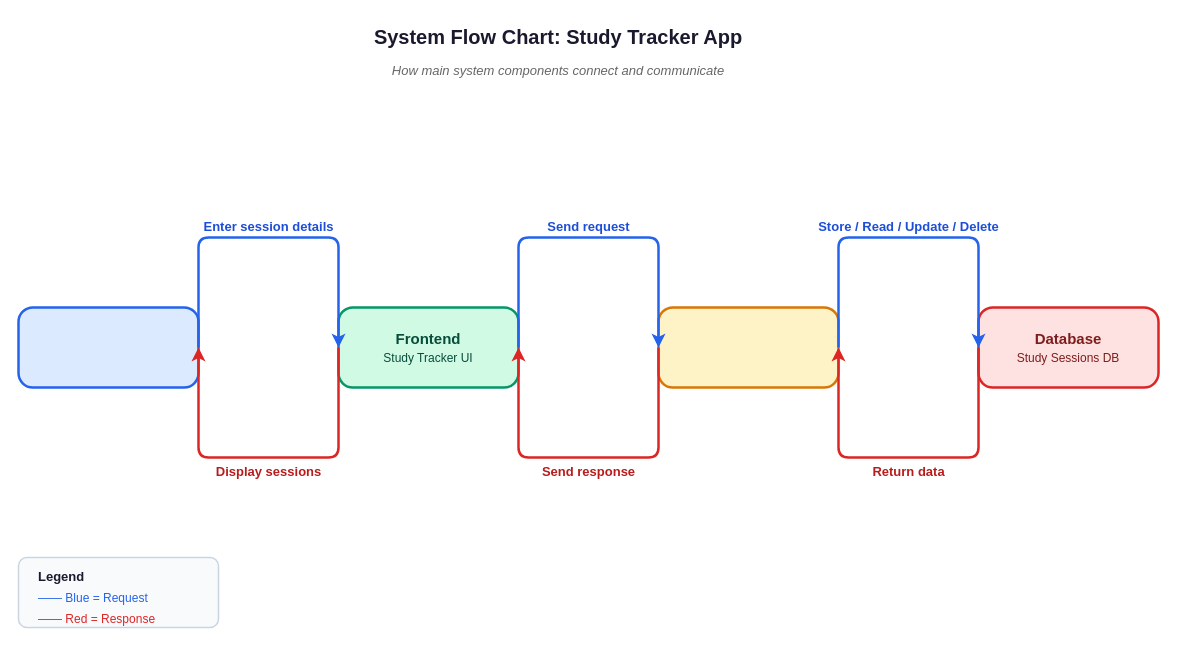
This 1177x645 diagram has some shape labels left out. Here are the shapes that lost their labels. From the top down, the box of each, then its label:
(17, 306, 199, 388): User
(657, 306, 839, 388): Backend API Server
